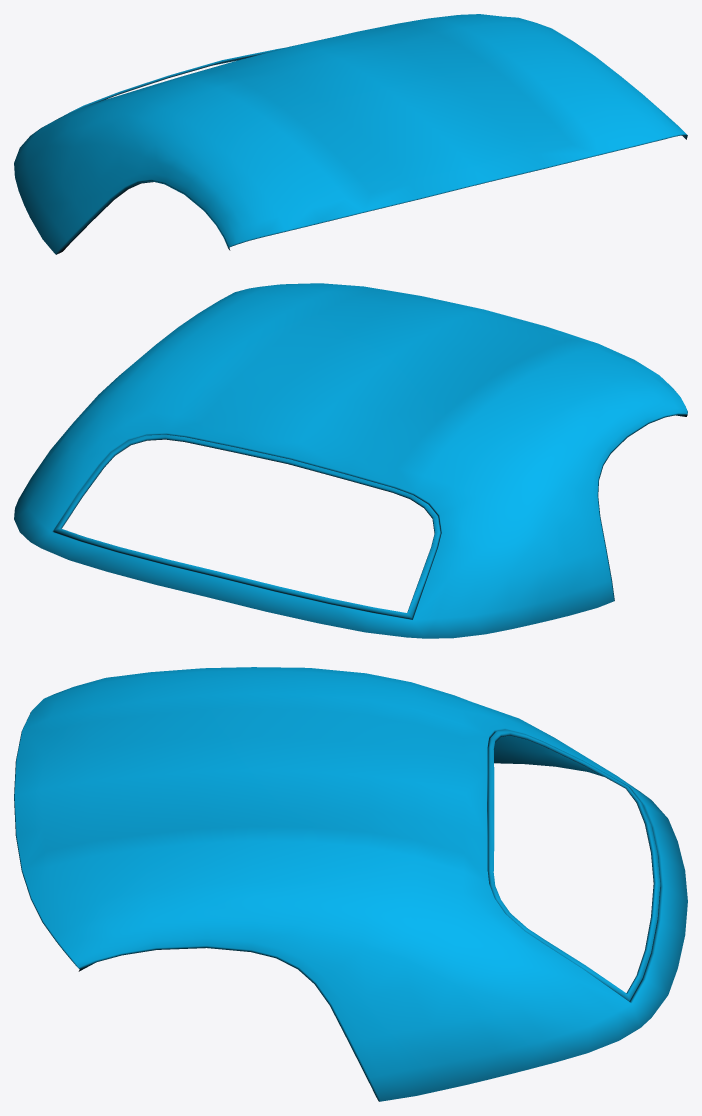
Rendered from Viper_Roof_Hard_Duco.fbx.
The picture shows the model from 3 angles, top to bottom: view 1: azimuth 30°, elevation 25°; view 2: azimuth 150°, elevation 25°; view 3: azimuth 270°, elevation 25°; orthographic projection. The views are drawn at different scales.
Visible parts, largest first — view 1: Viper_Roof_Hard_Duco; view 2: Viper_Roof_Hard_Duco; view 3: Viper_Roof_Hard_Duco.
Boxes of the visible parts, box(x1,y1,x2,y2) form: Viper_Roof_Hard_Duco: box(14, 14, 687, 254); Viper_Roof_Hard_Duco: box(14, 283, 687, 638); Viper_Roof_Hard_Duco: box(14, 667, 687, 1101).
Bounding box in the file's own units: 148 × 34.66 × 126.
